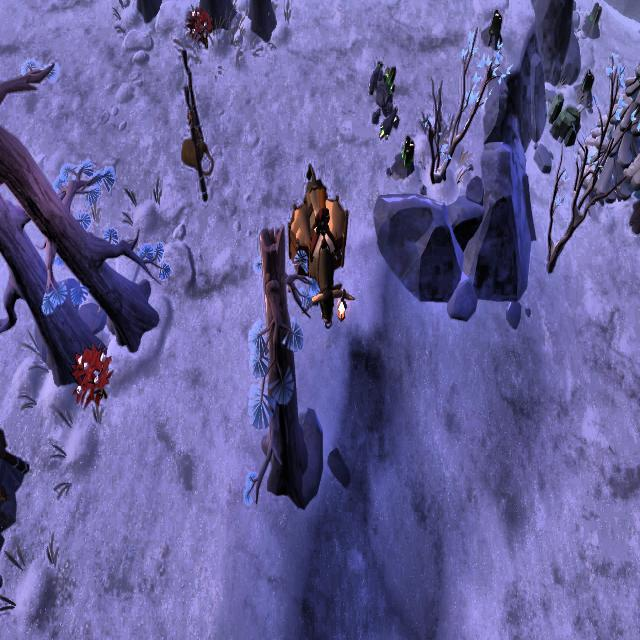fiber_t5: (74, 343, 114, 404), (185, 2, 212, 49)
ore_t3: (397, 134, 414, 167), (580, 68, 595, 102), (587, 2, 603, 33), (490, 8, 504, 41)
rock_t3: (544, 85, 580, 148)
